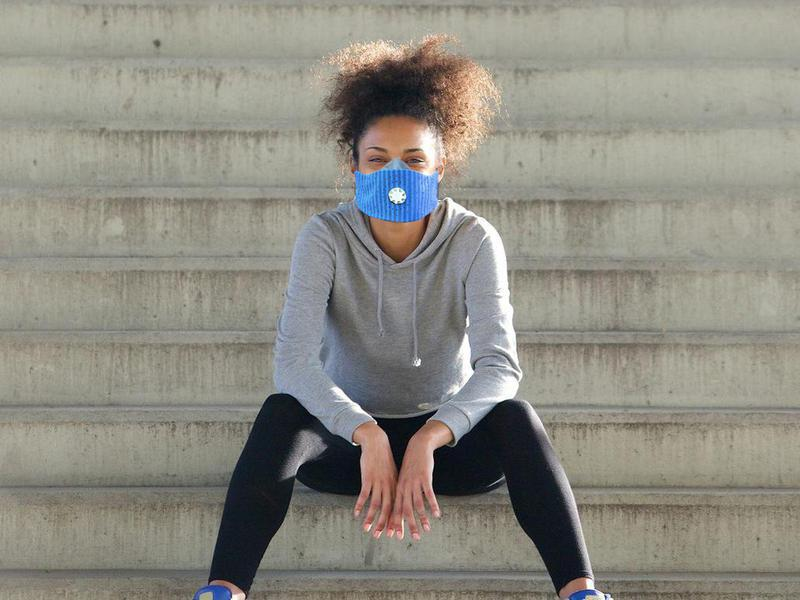with_mask: (354, 114, 443, 228)
